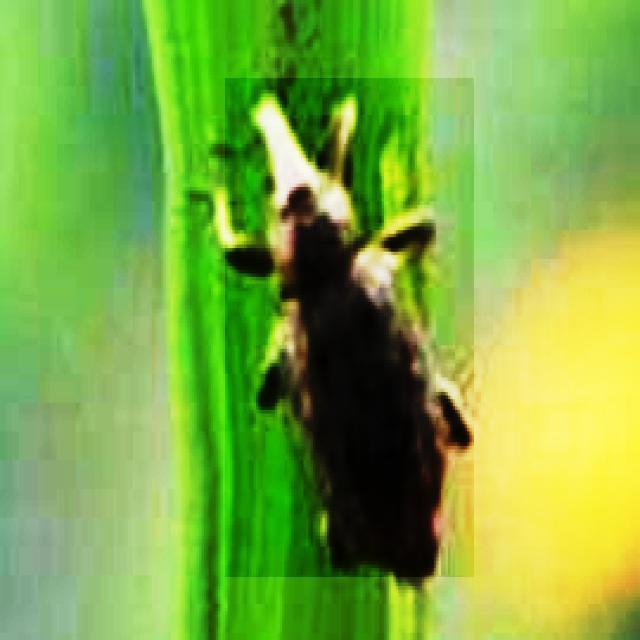rice-bug: (225, 78, 474, 577)
